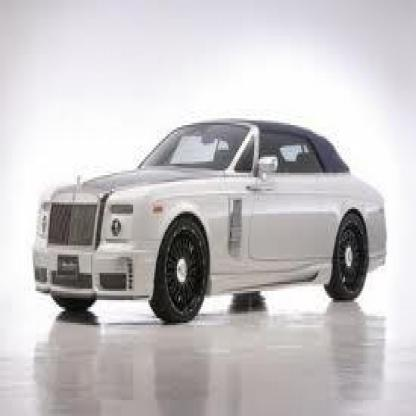car: (35, 120, 390, 328)
